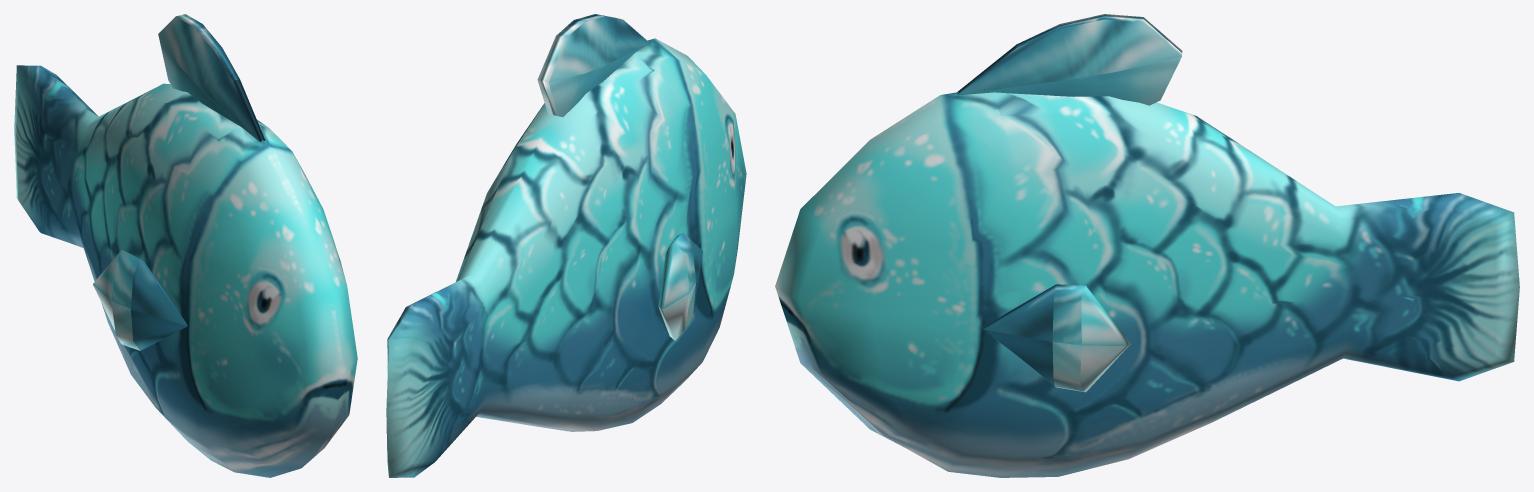
Rendered from cartoon fish animated.fbx.
3 renders of one model, left to right at view 1: azimuth 30°, elevation 25°; view 2: azimuth 150°, elevation 25°; view 3: azimuth 270°, elevation 25°, orthographic. The views are drawn at different scales.
Parts seen in each view (by area): view 1: Swimming_Fish; view 2: Swimming_Fish; view 3: Swimming_Fish.
Boxes of the visible parts, x1,y1,x2,y2 form: Swimming_Fish: (14, 14, 357, 477); Swimming_Fish: (386, 14, 746, 477); Swimming_Fish: (775, 14, 1519, 477).
Size of the model in its own units: 27.22 by 54.67 by 80.74.
Materials: 1 (1 with a texture image).
